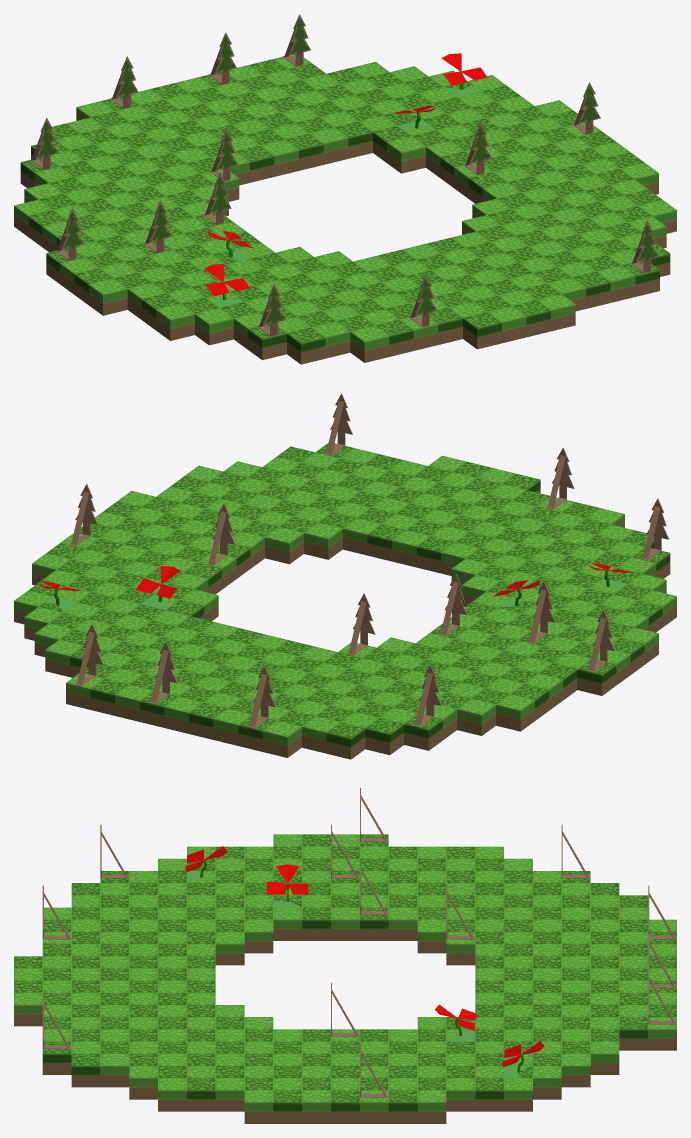
Rendered from Level 3 old.fbx.
The picture shows the model from 3 angles, top to bottom: view 1: azimuth 30°, elevation 25°; view 2: azimuth 150°, elevation 25°; view 3: azimuth 270°, elevation 25°; orthographic projection.
Parts seen in each view (by area): view 1: Level3.082, Level3.116, Level3.232, Level3.193, Level3.253, Level3.294, Level3.321, Level3.213, Special Tiles.003, Level3.096, Level3.197, Level3.314 (+44 smaller); view 2: Level3, Level3.092, Level3.069, Level3.077, Level3.141, Level3.272, Level3.288, Level3.114, Level3.210, Special Tiles.004, Level3.102, Level3.161 (+46 smaller); view 3: Level3.225, Level3.235, Level3.144, Level3.158, Level3.297, Level3.002, Level3.015, Level3.084, Level3.186, Level3.199, Level3.206, Level3.260 (+24 smaller).
Part boxes in pixels (bbox=[...]): Level3.082: bbox=[195, 308, 233, 345]; Level3.116: bbox=[287, 327, 325, 364]; Level3.232: bbox=[350, 325, 388, 362]; Level3.193: bbox=[89, 278, 127, 315]; Level3.253: bbox=[156, 303, 194, 340]; Level3.294: bbox=[387, 136, 425, 173]; Level3.321: bbox=[463, 312, 501, 349]; Level3.213: bbox=[248, 324, 286, 360]; Special Tiles.003: bbox=[441, 53, 487, 97]; Level3.096: bbox=[312, 321, 350, 358]; Level3.197: bbox=[597, 265, 635, 302]; Level3.314: bbox=[236, 145, 274, 182]; Level3: bbox=[326, 722, 365, 759]; Level3.092: bbox=[496, 694, 534, 731]; Level3.069: bbox=[457, 698, 495, 735]; Level3.077: bbox=[304, 522, 342, 559]; Level3.141: bbox=[265, 527, 303, 564]; Level3.272: bbox=[365, 717, 403, 755]; Level3.288: bbox=[263, 720, 301, 757]; Level3.114: bbox=[577, 659, 616, 695]; Level3.210: bbox=[404, 714, 442, 750]; Special Tiles.004: bbox=[136, 566, 180, 609]; Level3.102: bbox=[342, 518, 380, 555]; Level3.161: bbox=[416, 536, 454, 573]; Level3.225: bbox=[561, 1053, 590, 1087]; Level3.235: bbox=[100, 1053, 129, 1087]; Level3.144: bbox=[244, 919, 273, 953]; Level3.158: bbox=[71, 1053, 100, 1087]; Level3.297: bbox=[417, 919, 446, 953]; Level3.002: bbox=[388, 1090, 417, 1123]; Level3.015: bbox=[273, 1090, 302, 1123]; Level3.084: bbox=[417, 1090, 446, 1123]; Level3.186: bbox=[446, 1078, 475, 1111]; Level3.199: bbox=[215, 1078, 244, 1111]; Level3.206: bbox=[619, 1017, 648, 1050]; Level3.260: bbox=[244, 1090, 273, 1123].
Size of the model in its own units: 4400 by 565 by 4600.
